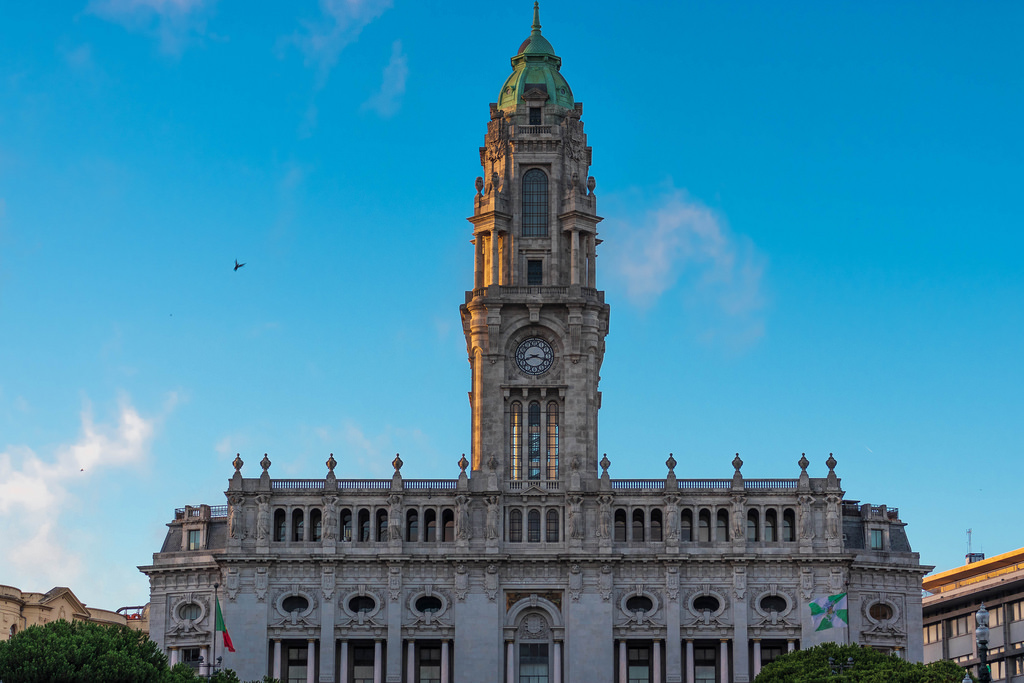camara: (135, 0, 936, 682)
